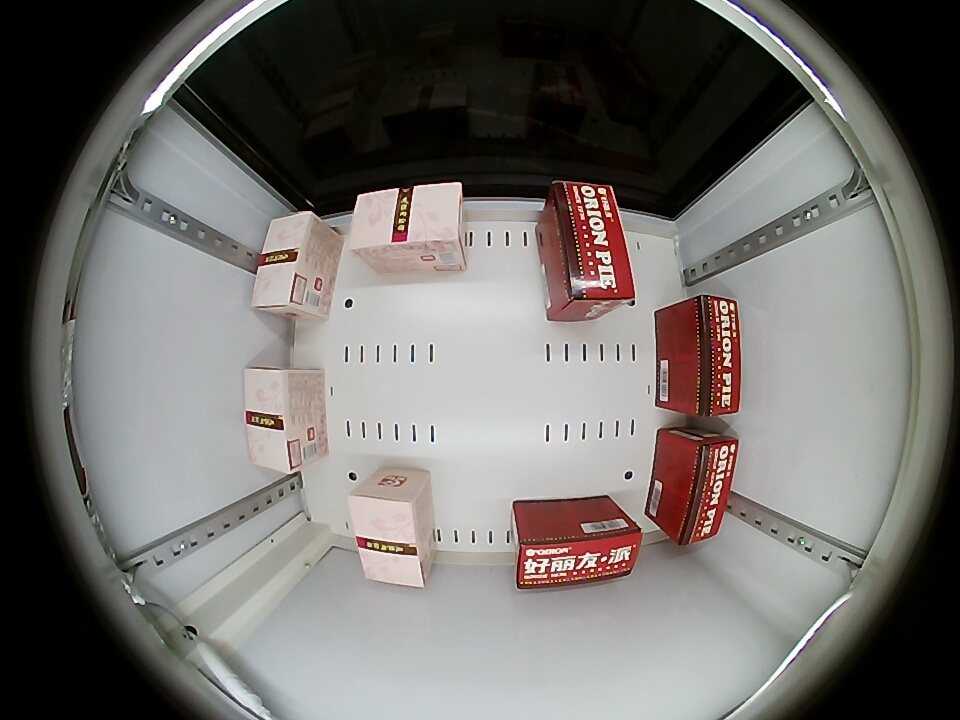haoliyou: (546, 181, 635, 316), (514, 500, 643, 591), (662, 295, 742, 417), (659, 429, 740, 547)
rousongbing: (349, 181, 465, 272), (349, 476, 431, 589), (251, 210, 329, 316), (244, 367, 317, 474)
